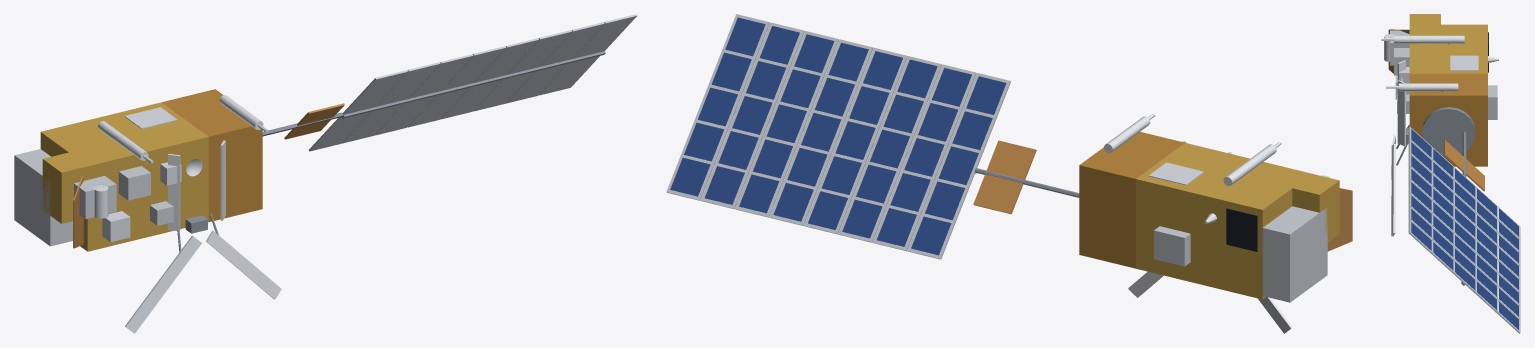
The model's file is metop.glb.
3 views of the same model, side by side, from view 1: azimuth 30°, elevation 25°; view 2: azimuth 150°, elevation 25°; view 3: azimuth 270°, elevation 25° (orthographic). The views are drawn at different scales.
Parts seen in each view (by area): view 1: body, foil; view 2: solar-panel, foil, body; view 3: body, solar-panel, foil.
Part boxes in pixels (left/top/right/bottom): body: left=74, top=14, right=637, bottom=333; foil: left=14, top=89, right=344, bottom=251; solar-panel: left=670, top=17, right=1006, bottom=255; foil: left=973, top=132, right=1352, bottom=302; body: left=666, top=14, right=1329, bottom=333; body: left=1381, top=30, right=1520, bottom=333; solar-panel: left=1411, top=129, right=1518, bottom=329; foil: left=1388, top=14, right=1497, bottom=191.
Bounding box in the file's own units: 17.61 × 5.47 × 4.44.
